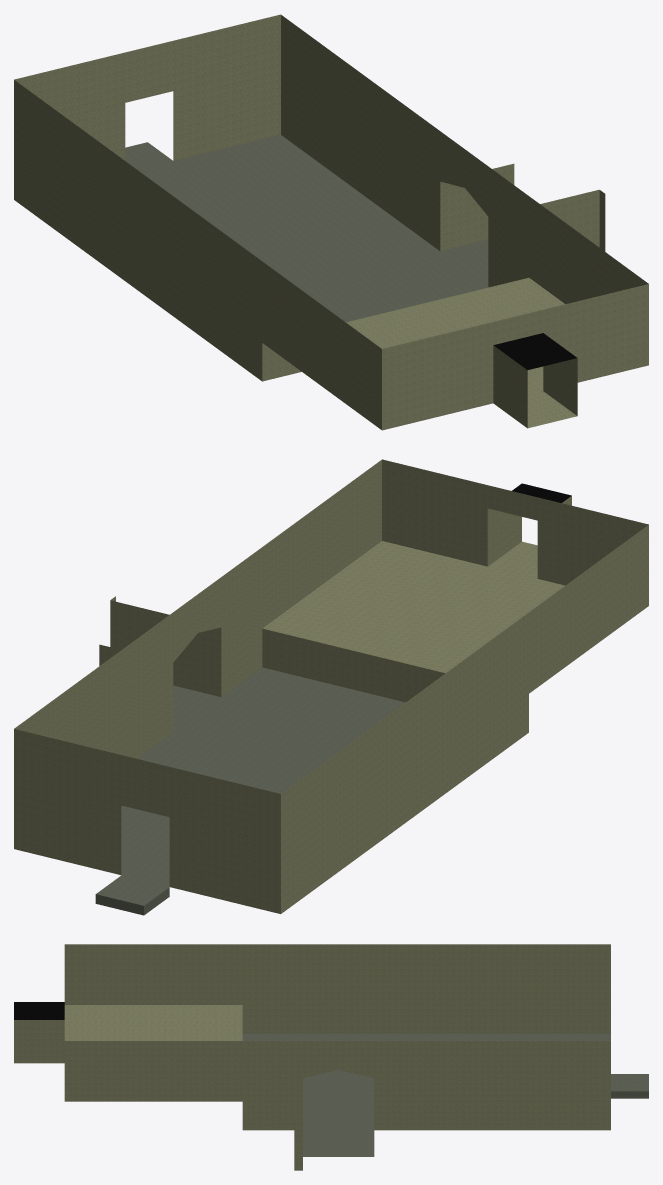
File: ROOM_Far.fbx
The picture shows the model from 3 angles, top to bottom: view 1: azimuth 30°, elevation 25°; view 2: azimuth 150°, elevation 25°; view 3: azimuth 270°, elevation 25°; orthographic projection. The views are drawn at different scales.
Parts seen in each view (by area): view 1: ROOM_Far; view 2: ROOM_Far; view 3: ROOM_Far.
Boxes of the visible parts, x1=… form: ROOM_Far: x1=14, y1=14, x2=648, y2=430; ROOM_Far: x1=14, y1=459, x2=648, y2=915; ROOM_Far: x1=14, y1=944, x2=648, y2=1170.
Size of the model in its own units: 5100 by 1675 by 10000.
